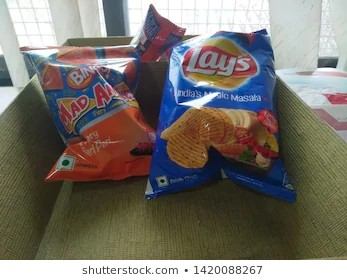lays-small: (145, 26, 303, 204)
